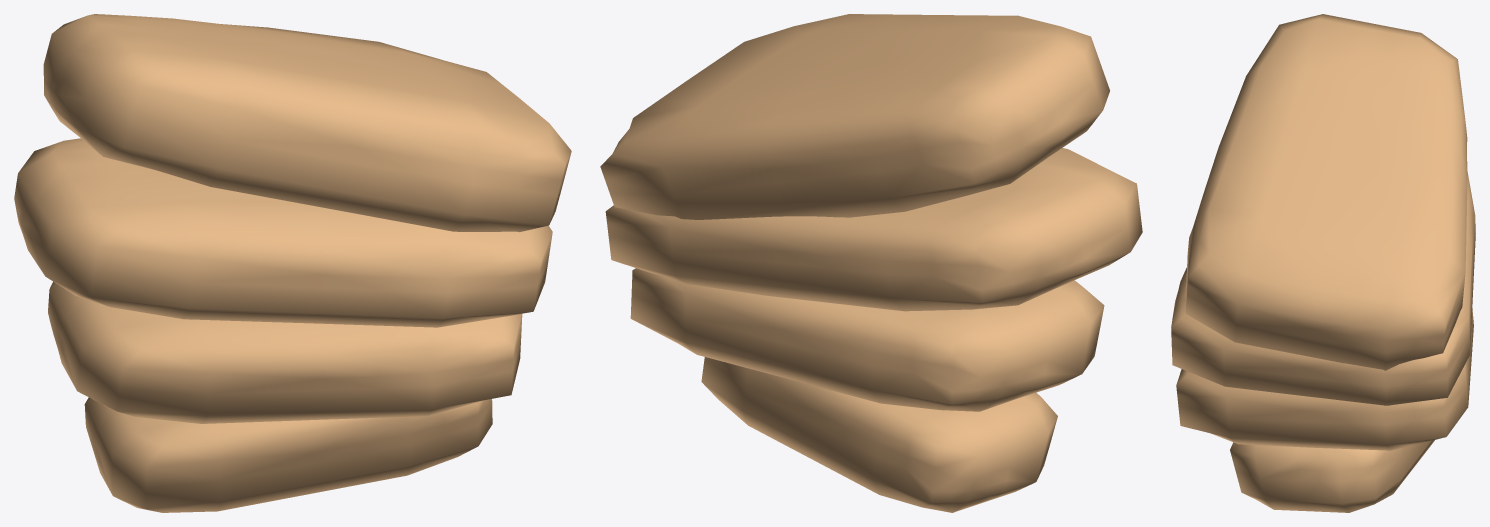
Rendered from palm_r.dae.
3 views of the same model, side by side, from view 1: azimuth 30°, elevation 25°; view 2: azimuth 150°, elevation 25°; view 3: azimuth 270°, elevation 25° (orthographic). The views are drawn at different scales.
Visible parts, largest first — view 1: skin_geo_ring_metacarpal_r; view 2: skin_geo_ring_metacarpal_r; view 3: skin_geo_ring_metacarpal_r.
Boxes of the visible parts, <box> form: skin_geo_ring_metacarpal_r: <box>14,14,571,512</box>; skin_geo_ring_metacarpal_r: <box>600,14,1142,512</box>; skin_geo_ring_metacarpal_r: <box>1171,14,1475,512</box>.
Bounding box in the file's own units: 0.0931 × 0.0608 × 0.0855.
